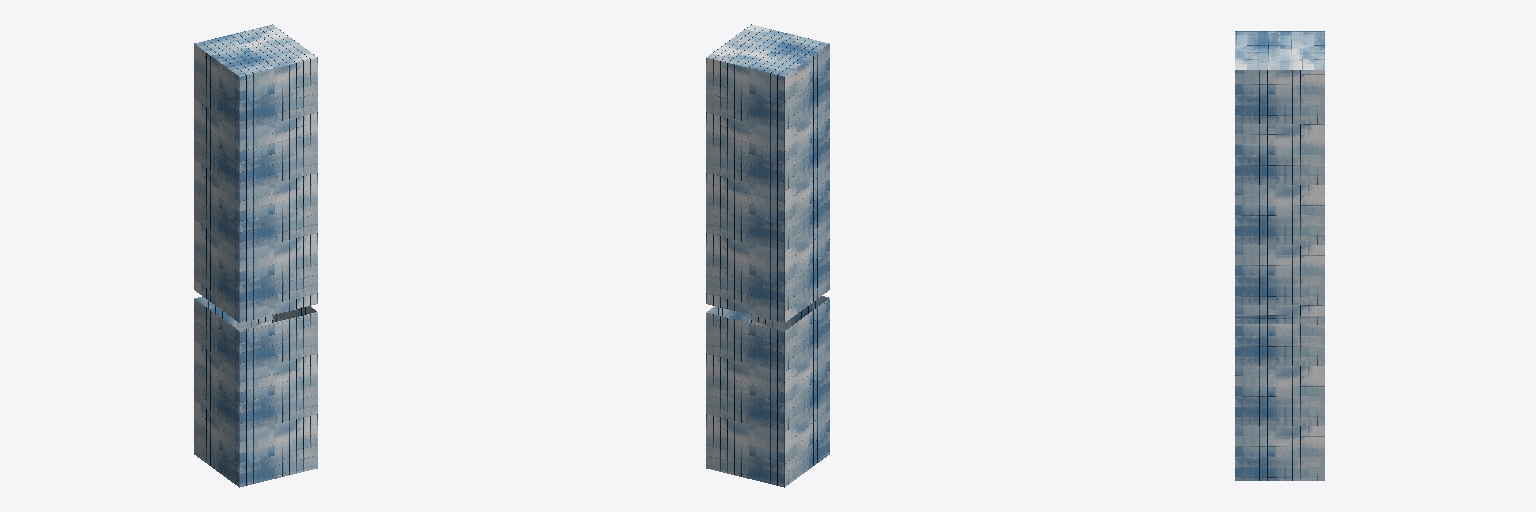
3 views of the same model, side by side, from view 1: azimuth 30°, elevation 25°; view 2: azimuth 150°, elevation 25°; view 3: azimuth 270°, elevation 25° (orthographic).
Visible parts, largest first — view 1: block2; view 2: block2; view 3: block2.
Part boxes in pixels (bbox=[...]): block2: bbox=[194, 24, 317, 487]; block2: bbox=[706, 24, 829, 487]; block2: bbox=[1235, 31, 1324, 480].
Bounding box in the file's own units: 10.89 × 54.45 × 10.89.
1 materials, 1 textured.